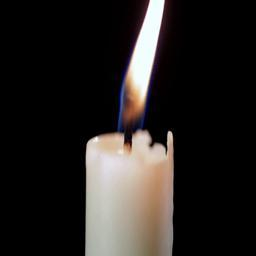fire: (119, 0, 165, 133)
